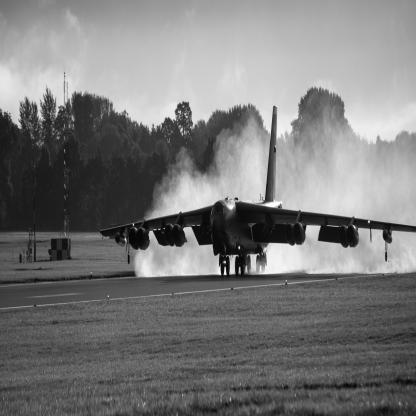B52: (100, 106, 416, 277)
